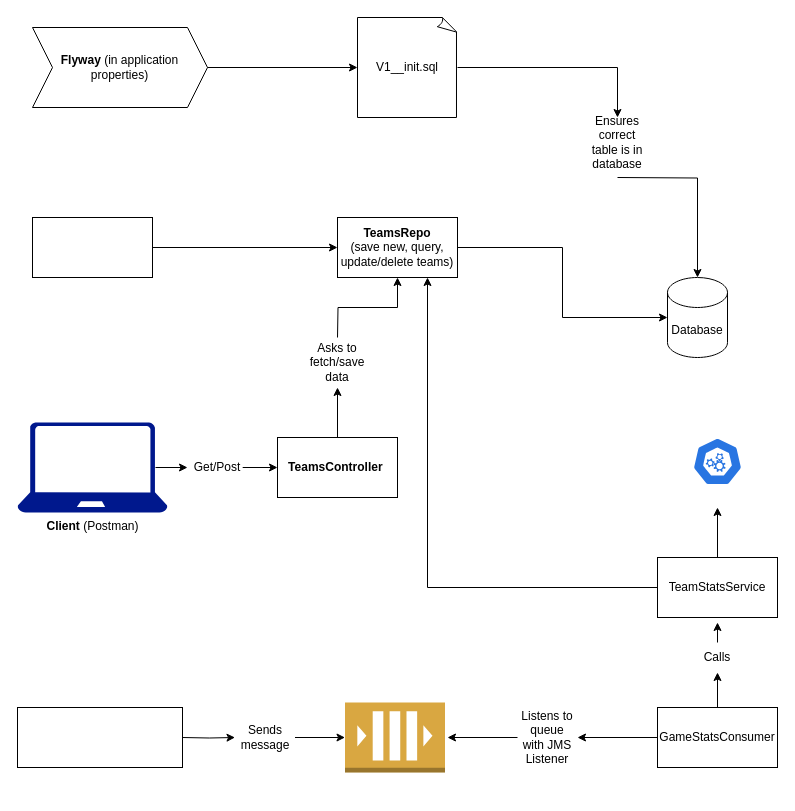
The diagram is 795 pixels wide and 811 high, and some of its shapes have lost their labels. Here are the shapes that lost their labels. From the top down, the box of each, then its label:
(32, 216, 152, 278): Teams (maps to PostgreSQL teams table)
(692, 436, 742, 486): MLB API
(16, 706, 182, 768): MessageSenderController
(344, 702, 445, 772): ActiveMQ: gameStatsQueue
